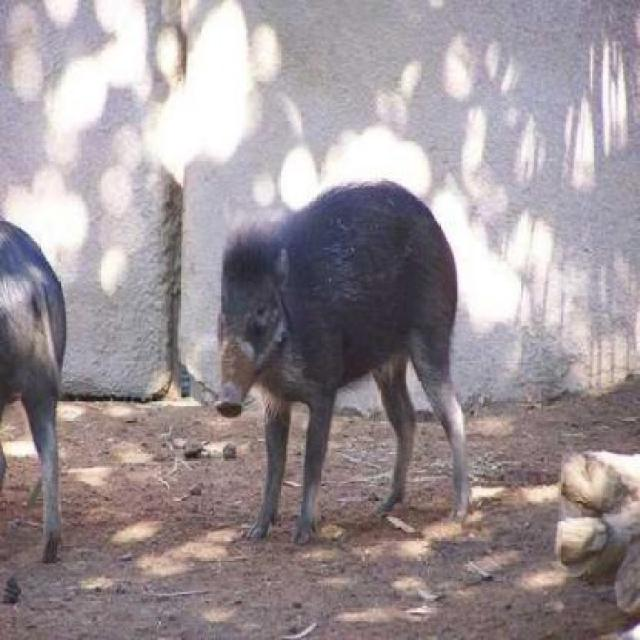Boar: (182, 131, 524, 580)
